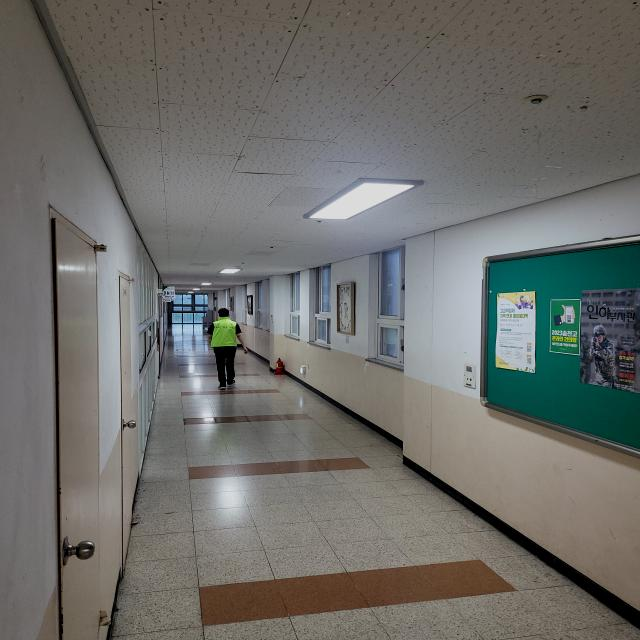weston_spy: (209, 312, 248, 355)
